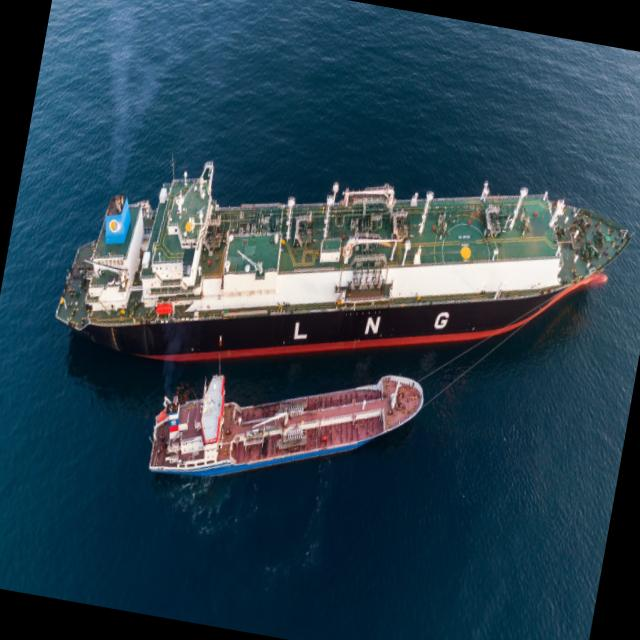boat: (28, 79, 640, 447)
